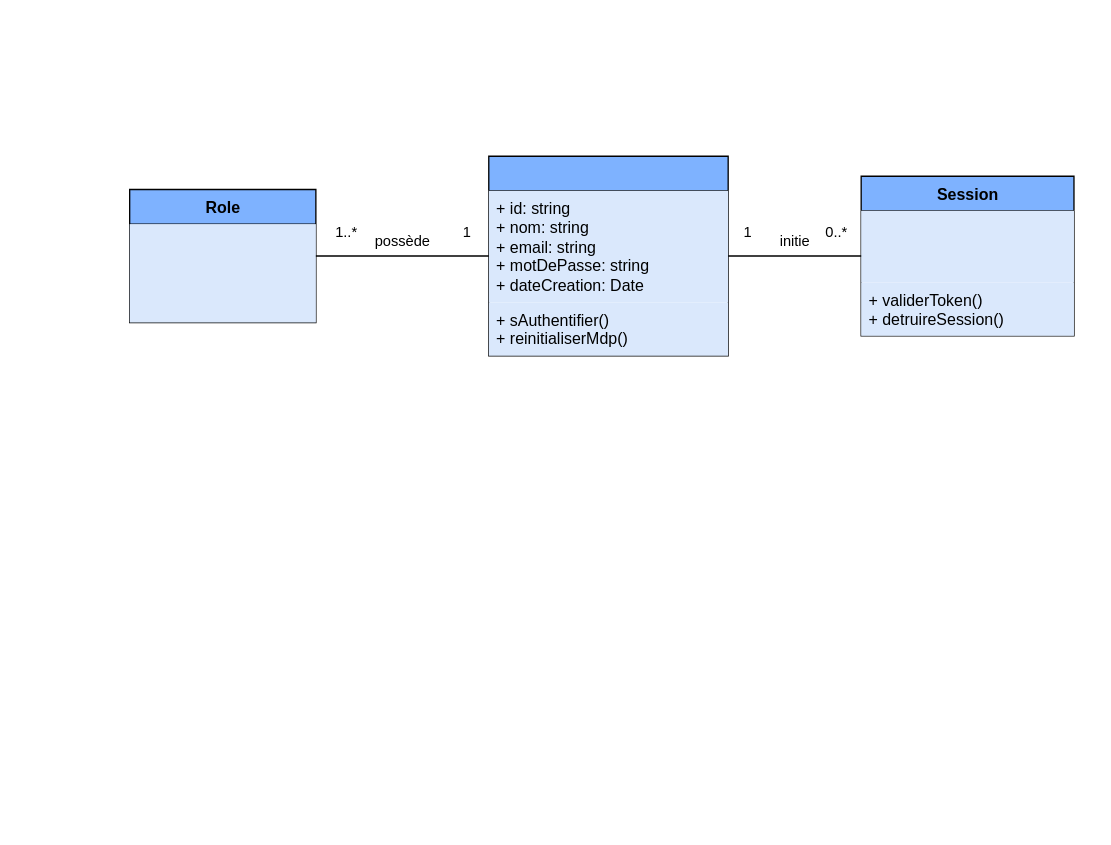
This 1111x845 diagram has some shape labels left out. The box of each missing label's shape, as (x1, y1, x2, y2) in pixels:
+ id: string + nomRole: string: (129, 223, 315, 322)
+ id: string + token: string + dateExpiration: Date: (861, 210, 1073, 282)
Utilisateur: (487, 155, 728, 356)
